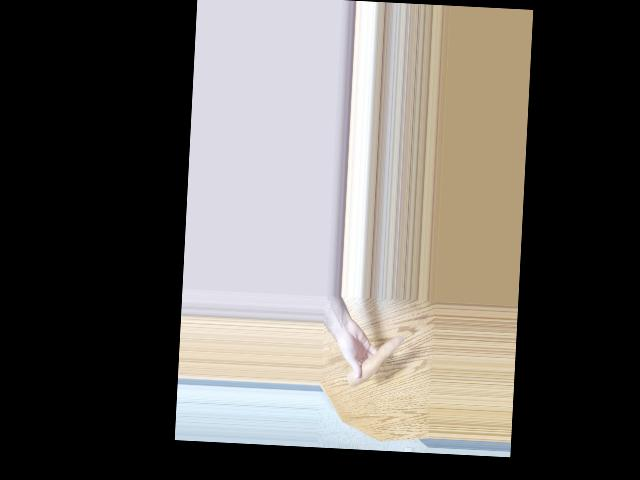sweet_potato: (346, 333, 402, 387)
